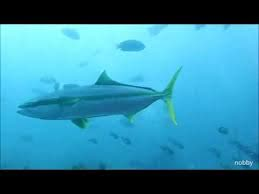hamati: (14, 64, 192, 129)
